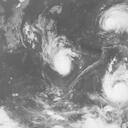cyclone: (50, 46, 77, 76)
